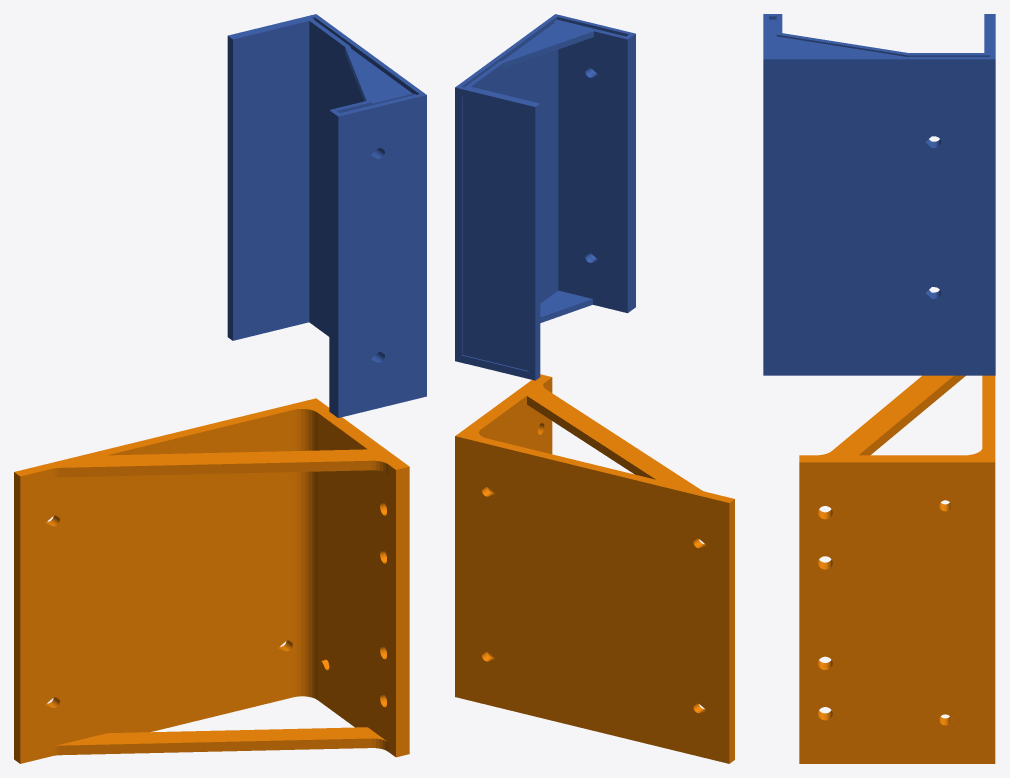
The model's file is cpsl_realsense_x6_assembly2.glb.
3 renders of one model, left to right at view 1: azimuth 30°, elevation 25°; view 2: azimuth 150°, elevation 25°; view 3: azimuth 270°, elevation 25°, orthographic. The views are drawn at different scales.
Bounding box in the file's own units: 99.02 × 210 × 62.77.
